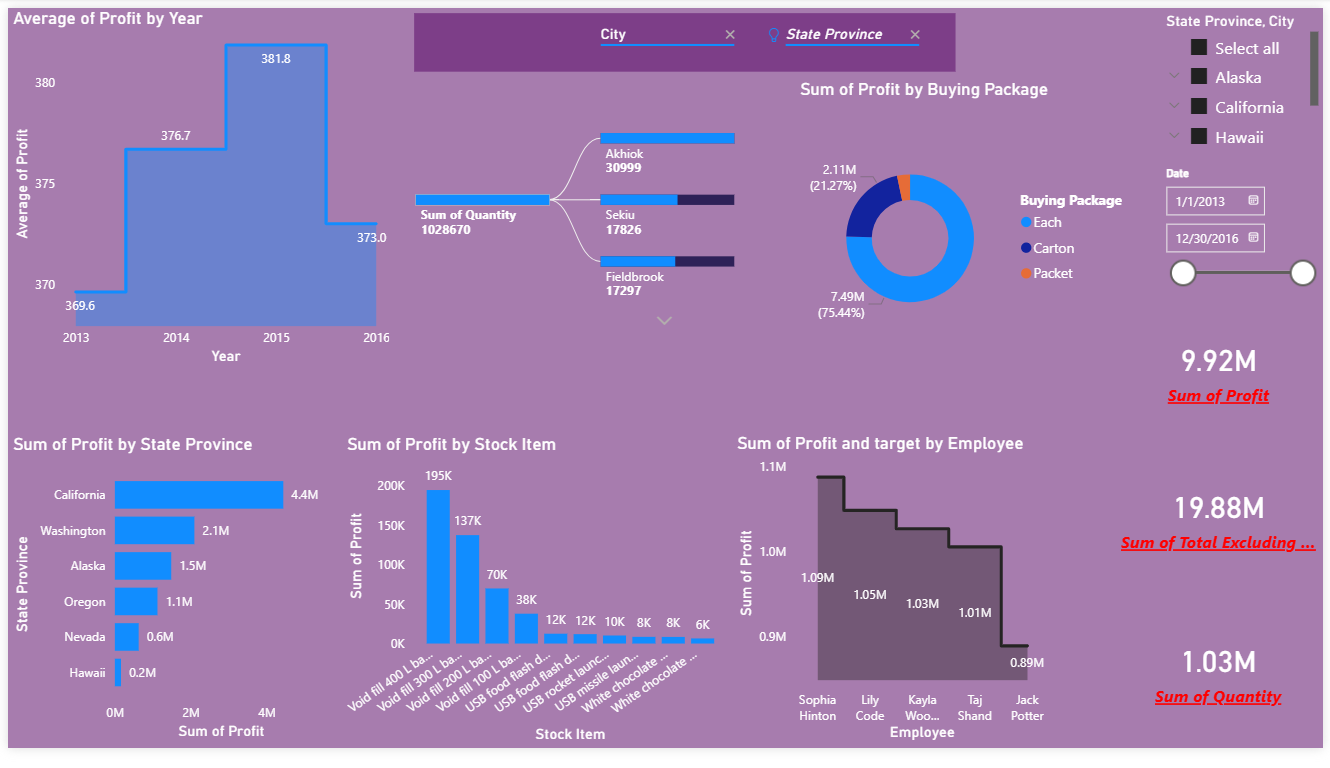

This screenshot's page, from the dashboard's own definition file:
{"tool":"powerbi","page":{"name":"SALES_PROJECT","canvas":[1280,720],"ordinal":0},"visuals":[{"type":"card","fields":{"Values":["Sum(FactSale.Quantity)"]},"box":[1062.9,399.1,204.4,148.9],"z":0},{"type":"card","fields":{"Values":["Sum(FactSale.Profit)"]},"box":[1077,284.4,203.3,136],"z":1000},{"type":"card","fields":{"Values":["Sum(FactSale.Total Excluding Tax)"]},"box":[1050.3,548,229.7,139.2],"z":2000},{"type":"areaChart","fields":{"Category":["DimDate.Date.Variation.Date Hierarchy.Year","DimDate.Date.Variation.Date Hierarchy.Quarter","DimDate.Date.Variation.Date Hierarchy.Month","DimDate.Date.Variation.Date Hierarchy.Day"],"Y":["Avg(FactSale.Profit)"]},"box":[0,63.3,363.1,303.7],"z":3000},{"type":"barChart","fields":{"Category":["DimCity.State Province Hierarchy.State Province","DimCity.State Province Hierarchy.City"],"Y":["Sum(FactSale.Profit)"]},"box":[0,414.9,325.6,302.2],"z":4000},{"type":"columnChart","fields":{"Category":["DimStockItem.Stock Item"],"Y":["Sum(FactSale.Profit)"]},"box":[325.6,414.9,379.1,305],"z":5000},{"type":"stackedAreaChart","fields":{"Category":["DimEmployee.Employee"],"Y":["Sum(FactSale.Profit)"]},"box":[704.7,413.5,315.9,303.6],"z":6000},{"type":"slicer","fields":{"Values":["DimDate.Date"]},"box":[1114.1,149.7,166.2,134.6],"z":7000},{"type":"slicer","fields":{"Values":["DimCity.State Province Hierarchy.State Province","DimCity.State Province Hierarchy.City"]},"box":[1114.1,0,166.2,149.7],"z":8000},{"type":"decompositionTreeVisual","fields":{"ExplainBy":["DimCity.State Province Hierarchy.City","DimCity.State Province Hierarchy.State Province"],"Analyze":["Sum(FactSale.Quantity)"]},"box":[390.3,63.3,537.3,288.1],"z":9000},{"type":"donutChart","fields":{"Category":["DimStockItem.Buying Package"],"Y":["Sum(FactSale.Profit)"]},"box":[769,149.9,334.8,210.3],"z":10000},{"type":"textbox","box":[0,0,363.1,55.5],"z":10001}]}

Visuals, with their boxes in screenshot pixels (x1, y1, x2, y2), scaled from the page's 1280x720 canvas onto the 1330x768 screenshot:
card - Sum(FactSale.Quantity): <bbox>1104, 426, 1317, 585</bbox>
card - Sum(FactSale.Profit): <bbox>1119, 303, 1329, 448</bbox>
card - Sum(FactSale.Total Excluding Tax): <bbox>1091, 585, 1329, 733</bbox>
areaChart - DimDate.Date.Variation.Date Hierarchy.Year x DimDate.Date.Variation.Date Hierarchy.Quarter: <bbox>0, 68, 377, 391</bbox>
barChart - DimCity.State Province Hierarchy.State Province x DimCity.State Province Hierarchy.City: <bbox>0, 443, 338, 765</bbox>
columnChart - DimStockItem.Stock Item x Sum(FactSale.Profit): <bbox>338, 443, 732, 767</bbox>
stackedAreaChart - DimEmployee.Employee x Sum(FactSale.Profit): <bbox>732, 441, 1060, 765</bbox>
slicer - DimDate.Date: <bbox>1158, 160, 1329, 303</bbox>
slicer - DimCity.State Province Hierarchy.State Province x DimCity.State Province Hierarchy.City: <bbox>1158, 0, 1329, 160</bbox>
decompositionTreeVisual - DimCity.State Province Hierarchy.City x DimCity.State Province Hierarchy.State Province: <bbox>406, 68, 964, 375</bbox>
donutChart - DimStockItem.Buying Package x Sum(FactSale.Profit): <bbox>799, 160, 1147, 384</bbox>
textbox: <bbox>0, 0, 377, 59</bbox>
